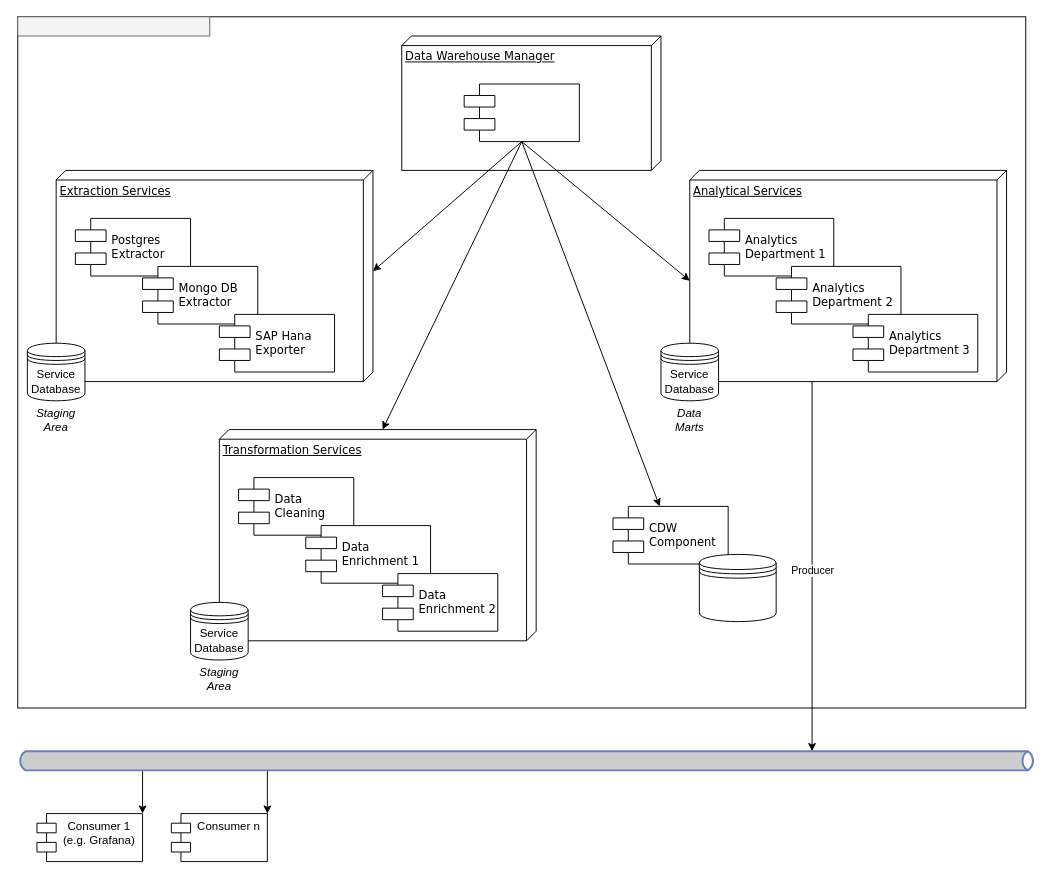
Some shapes in this 1052 by 878 pixel diagram are drawn without their labels. Here are the shapes that lost their labels. From the top down, the centre of each, then its label:
At [113,26]: "Data Warehouse System Context".
At [521,112]: "BPMN Workflow Engine".
At [737,587]: "Core Data Warehouse".
At [526,760]: "Bus / Message Broker".
